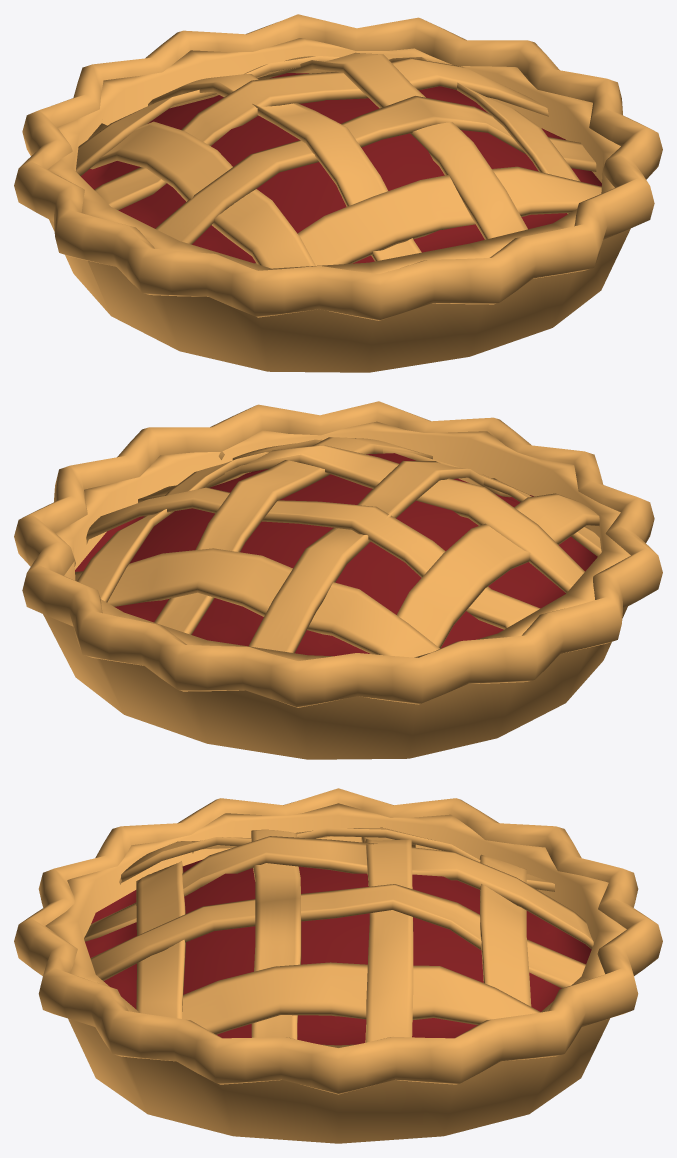
The model's file is blupturta.fbx.
3 renders of one model, top to bottom at view 1: azimuth 30°, elevation 25°; view 2: azimuth 150°, elevation 25°; view 3: azimuth 270°, elevation 25°, orthographic.
Visible parts, largest first — view 1: Circle; view 2: Circle; view 3: Circle.
Boxes of the visible parts, x1,y1,x2,y2 form: Circle: [14, 14, 662, 372]; Circle: [14, 401, 662, 759]; Circle: [14, 788, 662, 1143].
Size of the model in its own units: 222 by 63.12 by 222.
